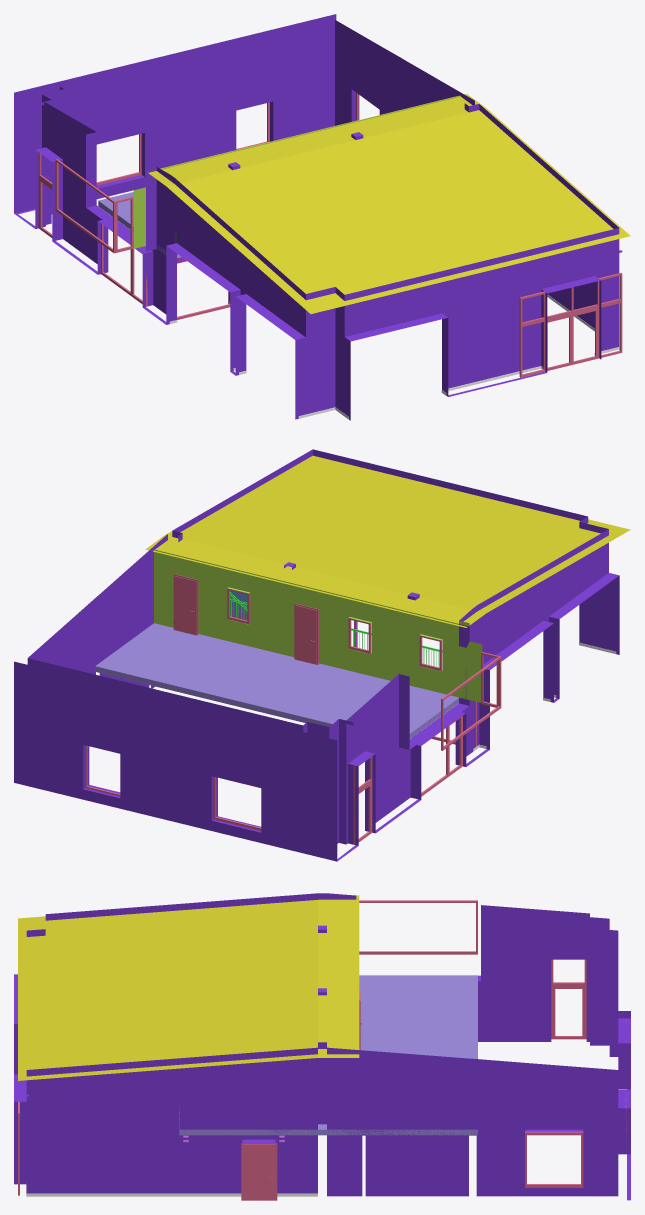
File: vinothekSpace.fbx
3 renders of one model, top to bottom at view 1: azimuth 30°, elevation 25°; view 2: azimuth 150°, elevation 25°; view 3: azimuth 270°, elevation 25°, orthographic. The views are drawn at different scales.
Parts seen in each view (by area): view 1: vinothekSpace; view 2: vinothekSpace; view 3: vinothekSpace.
Boxes of the visible parts, box(x1,y1,x2,y2) form: vinothekSpace: box(14, 14, 630, 420); vinothekSpace: box(14, 449, 630, 861); vinothekSpace: box(14, 893, 630, 1200).
Size of the model in its own units: 1448 by 555 by 2086.
